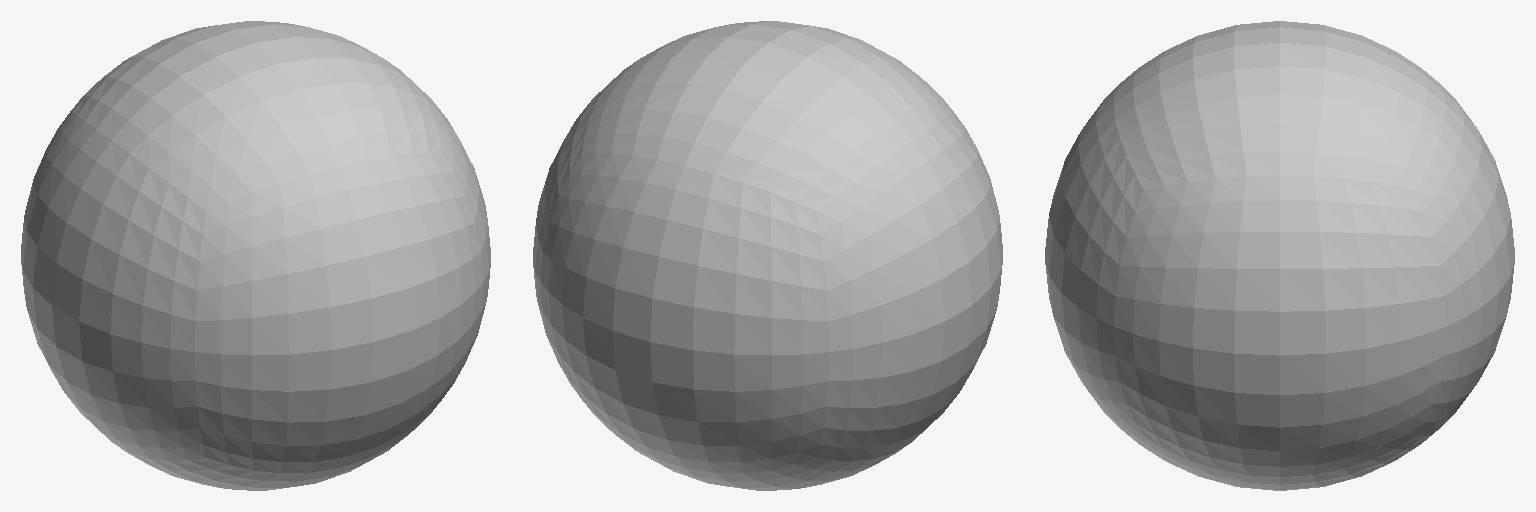
Rendered from star_sphere_inner_dense.obj.
3 renders of one model, left to right at view 1: azimuth 30°, elevation 25°; view 2: azimuth 150°, elevation 25°; view 3: azimuth 270°, elevation 25°, orthographic.
Visible parts, largest first — view 1: Cube; view 2: Cube; view 3: Cube.
Boxes of the visible parts, box(x1,y1,x2,y2) form: Cube: box(21, 21, 490, 490); Cube: box(533, 21, 1002, 490); Cube: box(1045, 21, 1514, 490).
Size of the model in its own units: 2.57 by 2.57 by 2.57.